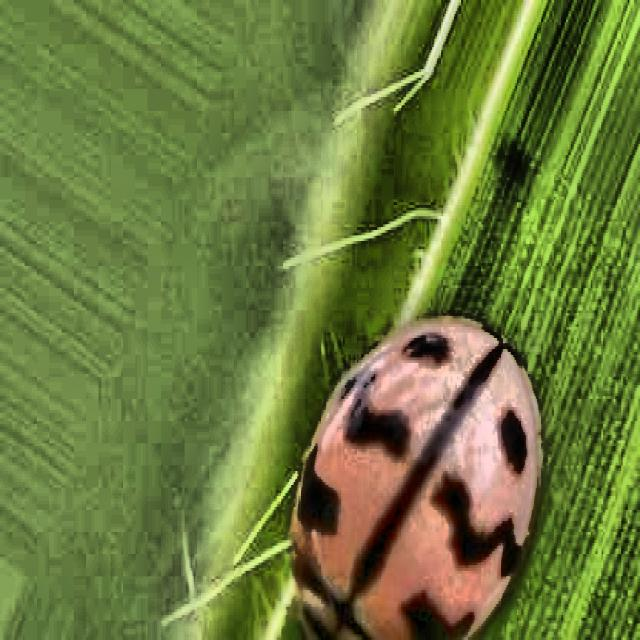Asian-Lady-beetle: (245, 249, 592, 640)
